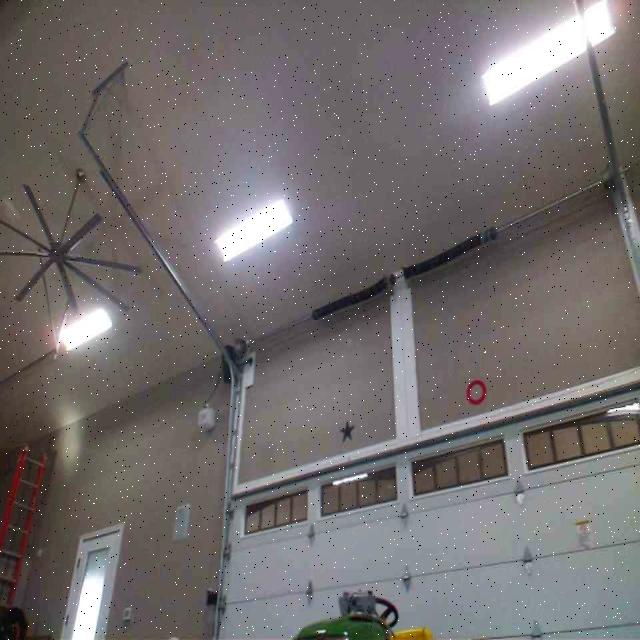ring_red: (464, 378, 484, 405)
star_black: (338, 421, 356, 441)
